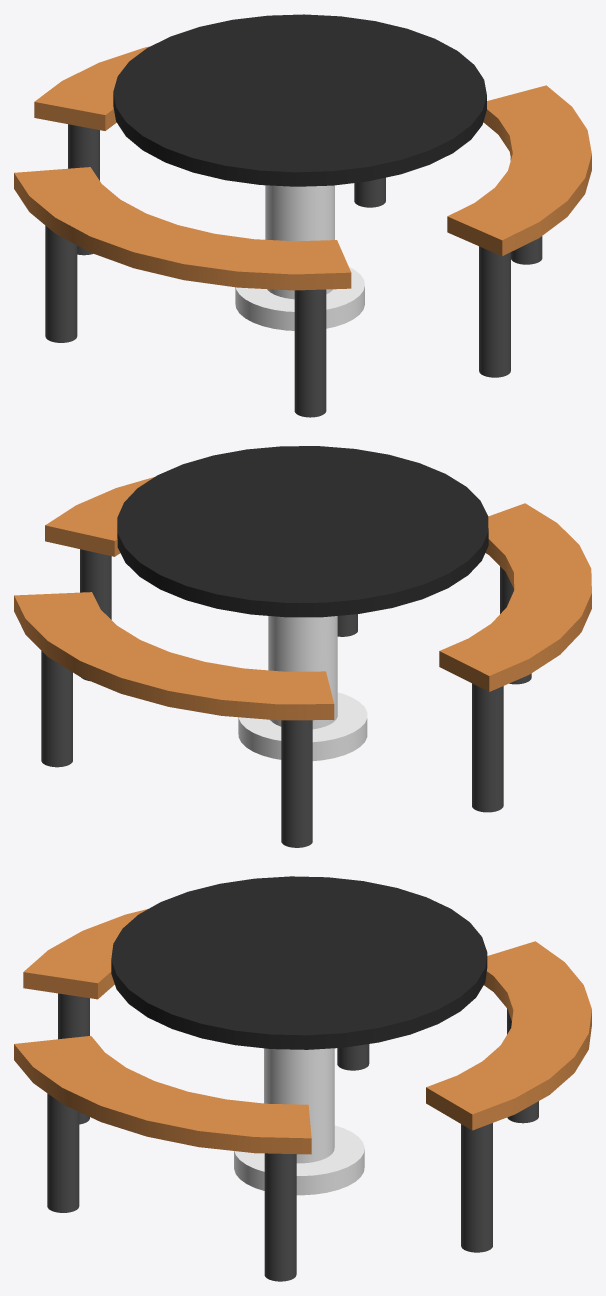
File: TnC.glb
3 views of the same model, one above another, from view 1: azimuth 30°, elevation 25°; view 2: azimuth 150°, elevation 25°; view 3: azimuth 270°, elevation 25° (orthographic).
Parts seen in each view (by area): view 1: Circle.007; view 2: Circle.007; view 3: Circle.007.
Boxes of the visible parts, x1,y1,x2,y2 form: Circle.007: (14,14,591,417); Circle.007: (14,446,591,847); Circle.007: (14,876,591,1281).
Size of the model in its own units: 0.6563 by 0.2622 by 0.6472.
